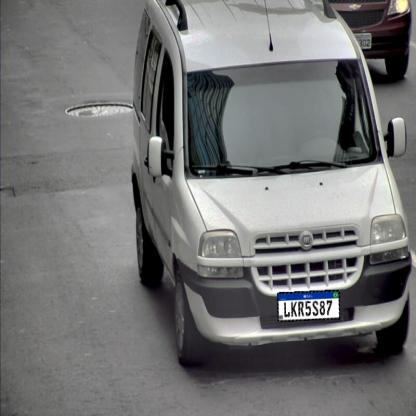PlacaM: (277, 290, 340, 322)
